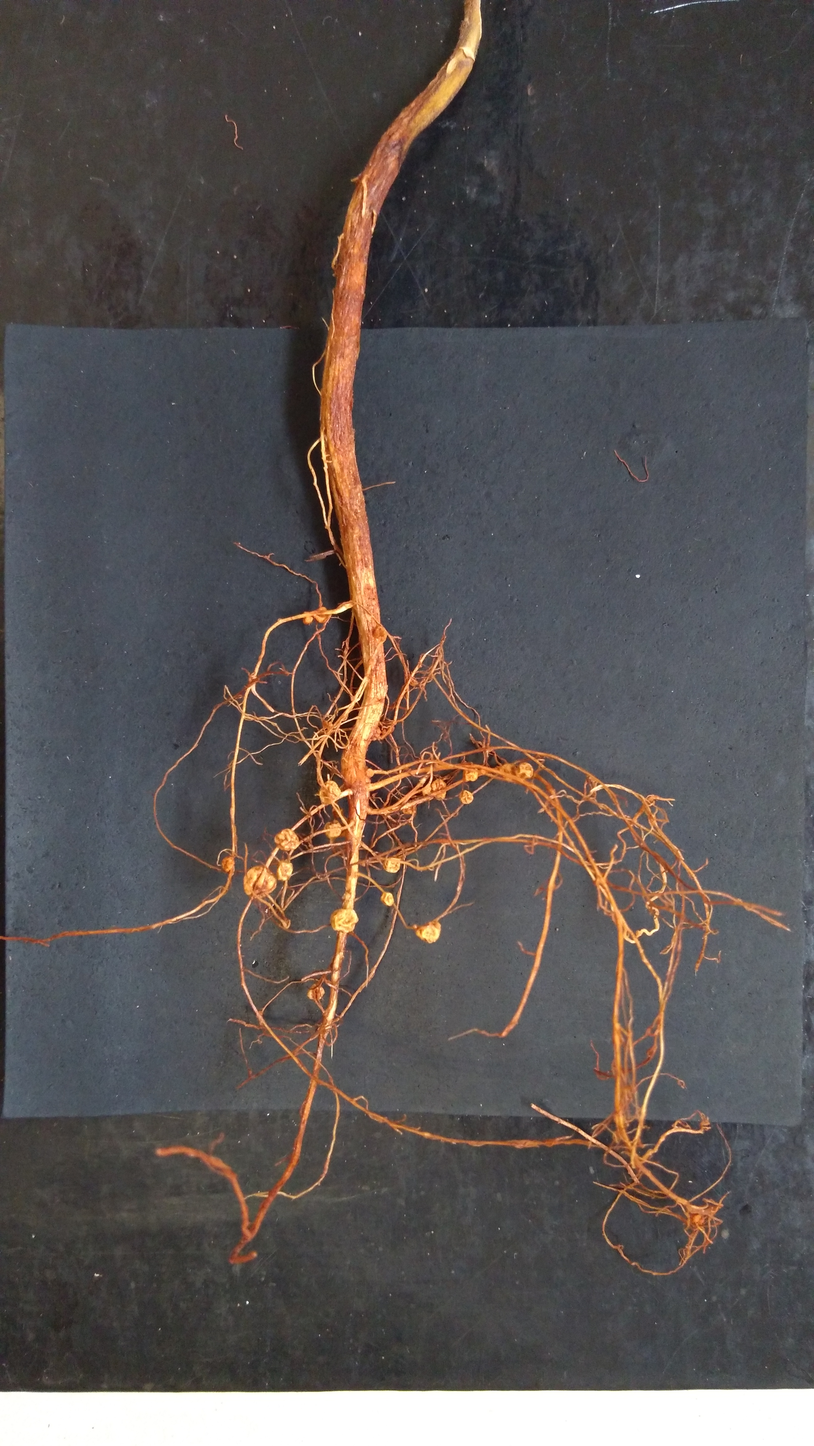nodule: (242, 864, 278, 898), (329, 907, 359, 935), (273, 827, 302, 851), (415, 920, 442, 945), (317, 780, 343, 804), (513, 759, 536, 781), (321, 819, 343, 838), (382, 855, 404, 874), (276, 860, 295, 882), (430, 777, 447, 801), (306, 982, 326, 1001), (313, 607, 332, 624), (458, 789, 477, 806), (373, 624, 388, 645), (463, 767, 480, 784), (379, 891, 396, 908), (501, 762, 515, 782), (220, 855, 235, 873), (691, 1211, 705, 1225), (371, 725, 381, 742), (301, 615, 314, 625), (365, 767, 375, 779)
